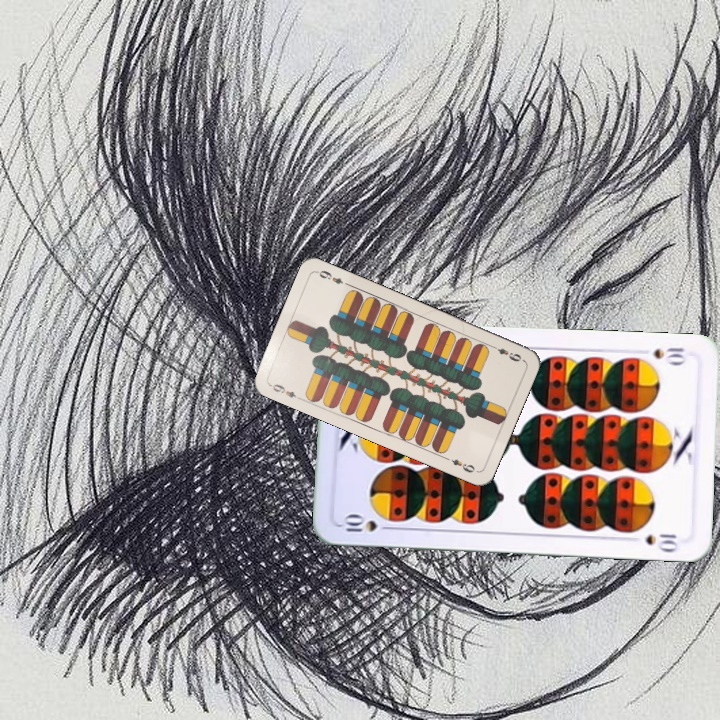E9: (487, 341, 525, 364), (266, 380, 304, 402)
S10: (337, 513, 396, 534), (650, 343, 688, 367)
